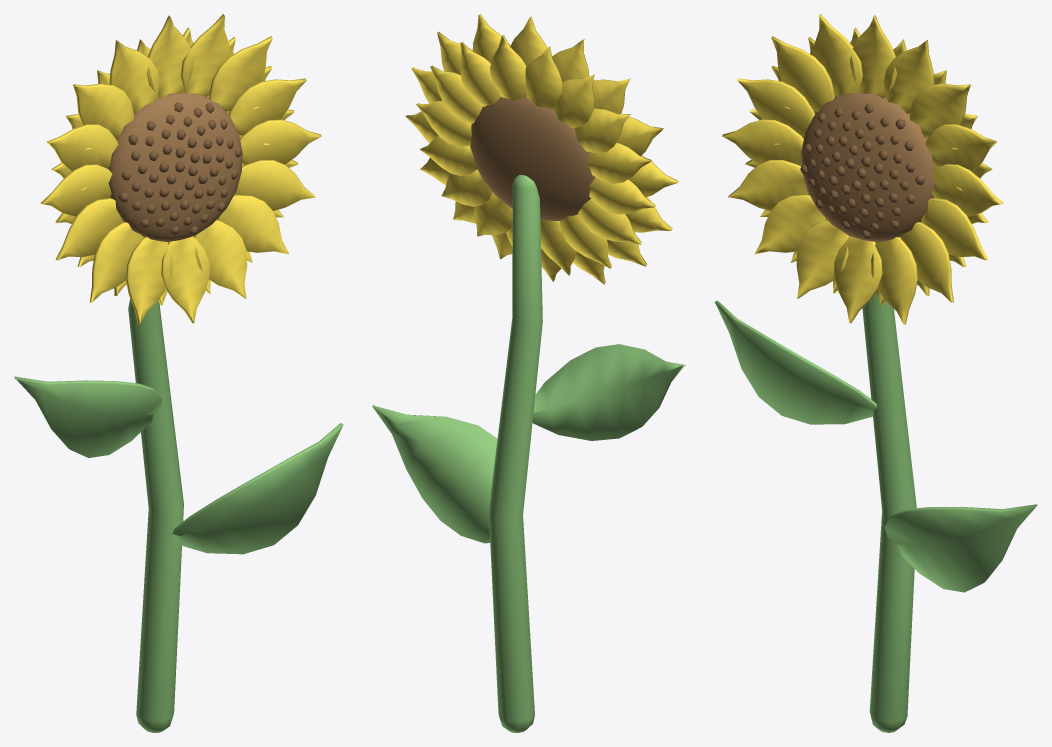
File: level_flower.glb
3 views of the same model, side by side, from view 1: azimuth 30°, elevation 25°; view 2: azimuth 150°, elevation 25°; view 3: azimuth 330°, elevation 25° (orthographic). The views are drawn at different scales.
Visible parts, largest first — view 1: level_flower; view 2: level_flower; view 3: level_flower.
Boxes of the visible parts, <box> form: level_flower: <box>14,14,343,732</box>; level_flower: <box>372,14,685,732</box>; level_flower: <box>714,14,1037,732</box>.
Size of the model in its own units: 0.5825 by 1.24 by 0.152.
